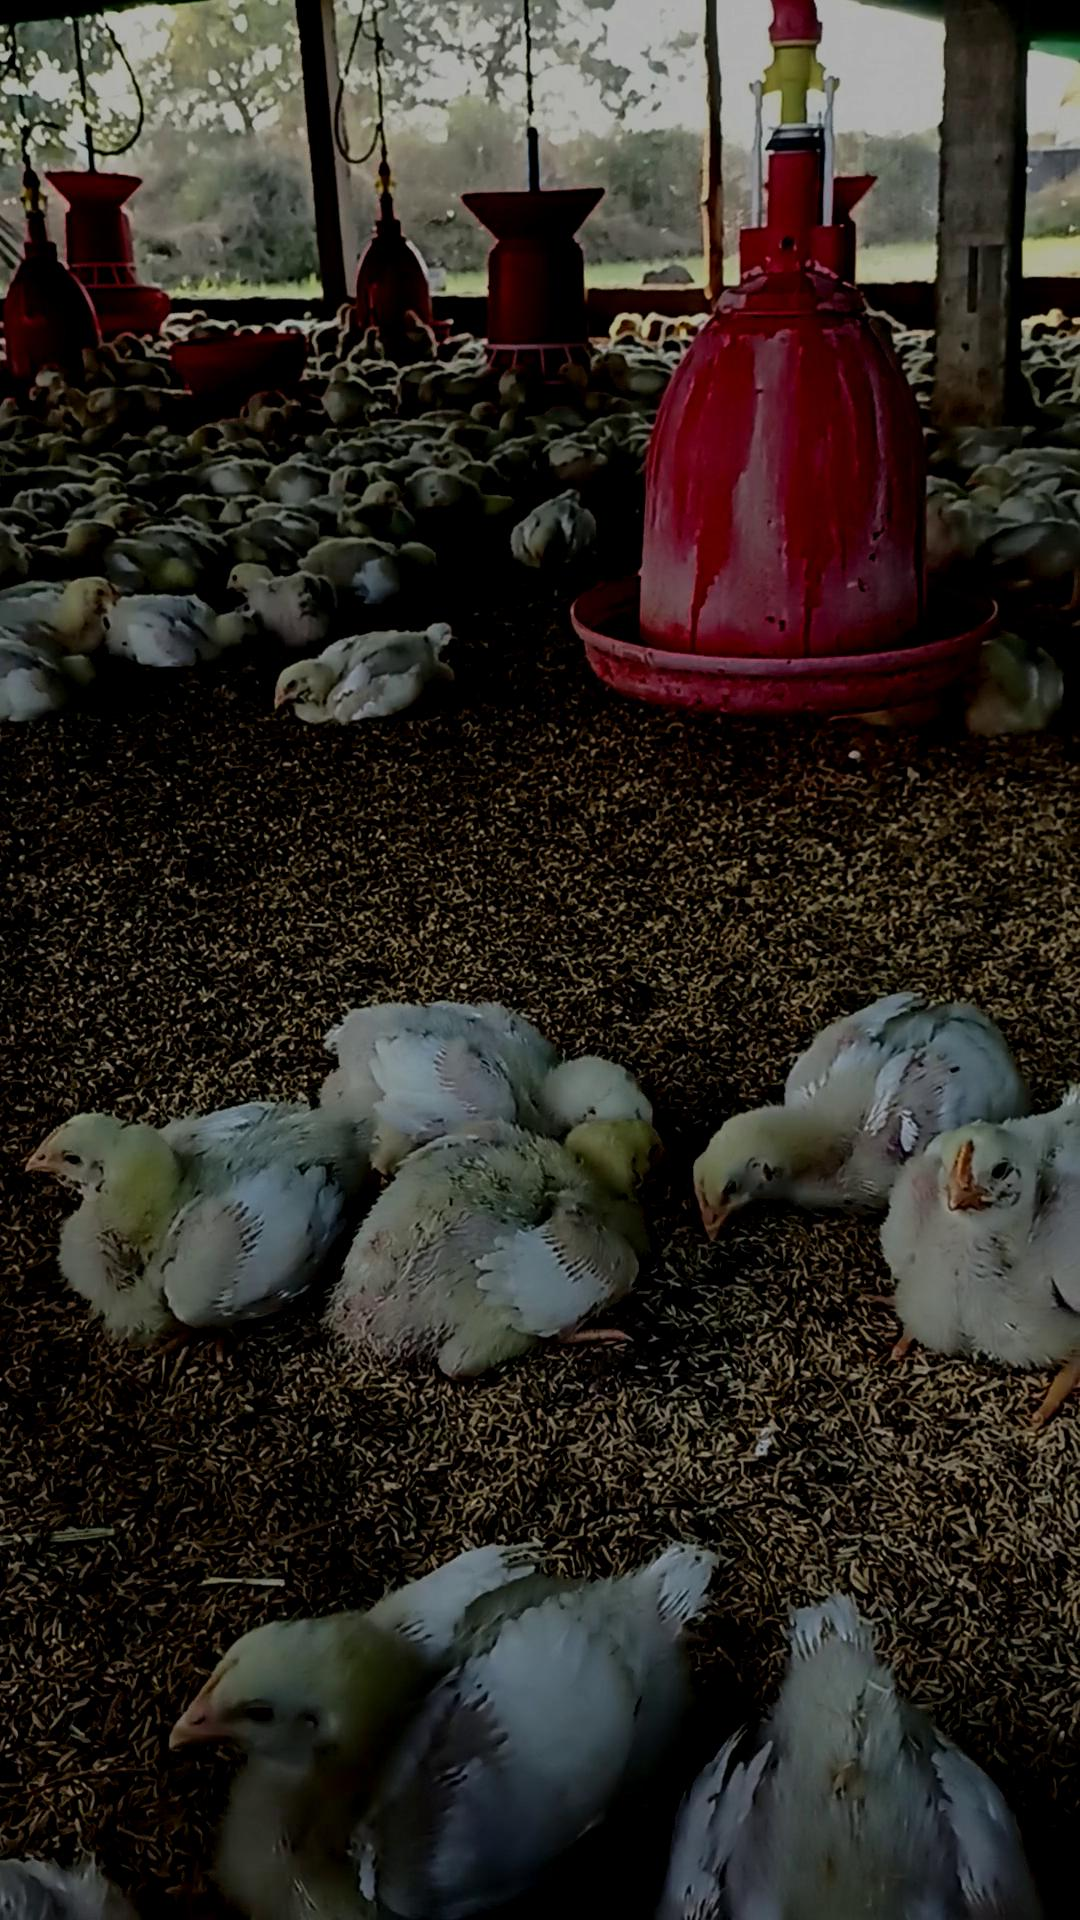Pollos: (178, 1528, 733, 1920), (338, 1117, 683, 1371), (686, 969, 969, 1251), (24, 1092, 344, 1324), (887, 1083, 1080, 1352), (273, 615, 458, 728), (222, 562, 336, 640), (8, 576, 112, 655), (512, 484, 596, 576)
